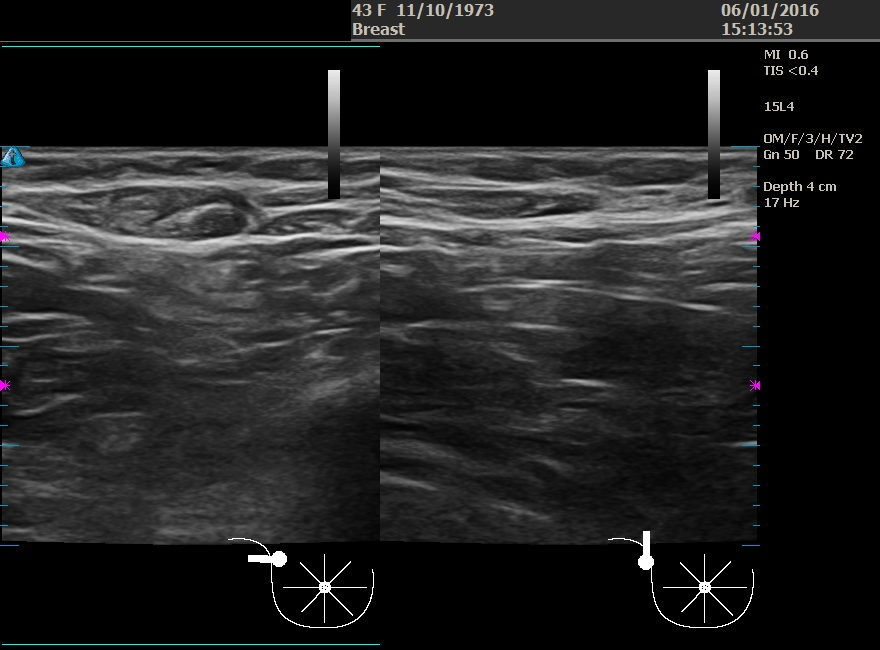BIRADS_3: (104, 150, 304, 351), (417, 175, 617, 375)
